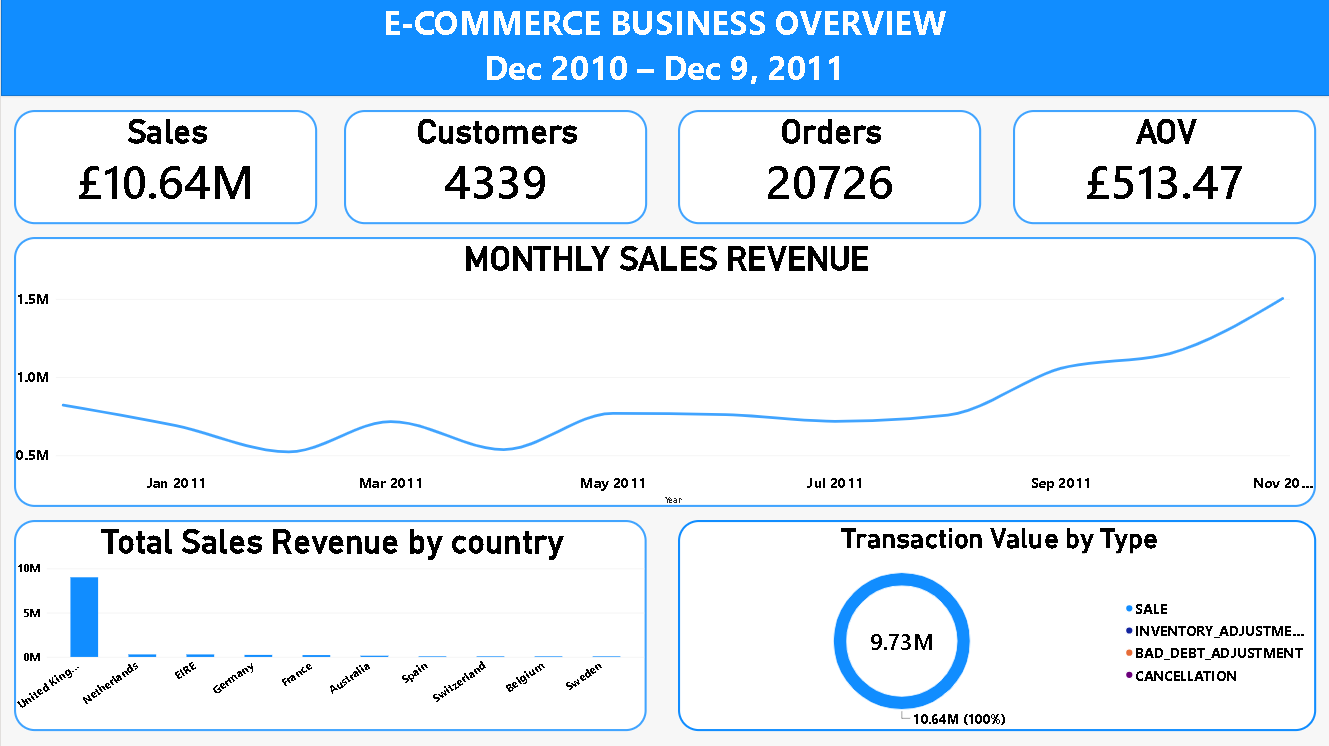

Layout of this report page (visuals, bound fields, positions):
{"tool":"powerbi","page":{"name":"Executive Overview","canvas":[1920,1080],"ordinal":0},"visuals":[{"type":"shape","box":[0,0,1920,140],"z":0},{"type":"textbox","box":[313.3,0,1290,140],"z":1000},{"type":"cardVisual","title":"Sales","fields":{"Data":["online_retail_clean.Total Sales Revenue"]},"box":[18.8,160.4,438.3,165],"z":2000},{"type":"cardVisual","title":"Orders","fields":{"Data":["online_retail_clean.Total Orders"]},"box":[978.3,160,438.3,165],"z":3000},{"type":"cardVisual","title":"Customers","fields":{"Data":["online_retail_clean.Total Customers"]},"box":[495,160,438.3,165],"z":4000},{"type":"cardVisual","title":"AOV","fields":{"Data":["online_retail_clean.Average Order Value"]},"box":[1462,160.4,438.3,165],"z":5000},{"type":"lineChart","title":"MONTHLY SALES REVENUE","fields":{"Y":["online_retail_clean.Total Sales Revenue"],"Category":["online_retail_clean.Year Month"]},"box":[18.8,343.8,1881,390.1],"z":6000},{"type":"columnChart","fields":{"Category":["online_retail_clean.country"],"Y":["online_retail_clean.Total Sales Revenue"]},"box":[18.8,752.7,914.5,304.8],"z":7000},{"type":"donutChart","title":"Transaction Value by Type","fields":{"Y":["online_retail_clean.Transaction Value"],"Category":["online_retail_clean.transaction_type"]},"box":[978.1,752.7,921.7,304.8],"z":8000}]}

Visuals, with their boxes in screenshot pixels (x1, y1, x2, y2), scaled from the page's 1920x1080 canvas onto the 1329x746 screenshot:
shape: 0,0,1328,97
textbox: 217,0,1110,97
"Sales" cardVisual: 13,111,316,225
"Orders" cardVisual: 677,111,981,224
"Customers" cardVisual: 343,111,646,224
"AOV" cardVisual: 1012,111,1315,225
"MONTHLY SALES REVENUE" lineChart: 13,237,1315,507
columnChart - online_retail_clean.country x online_retail_clean.Total Sales Revenue: 13,520,646,730
"Transaction Value by Type" donutChart: 677,520,1315,730
